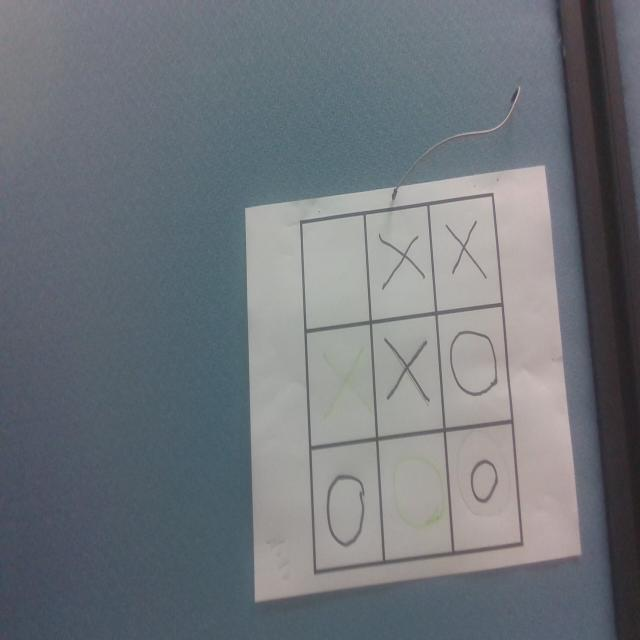null: (304, 215, 368, 331)
o: (391, 448, 450, 529), (449, 327, 497, 397), (326, 472, 365, 545), (470, 458, 498, 504)
table: (300, 193, 524, 575)
x: (319, 345, 370, 418), (386, 337, 429, 404), (380, 232, 426, 289), (447, 220, 487, 281)
